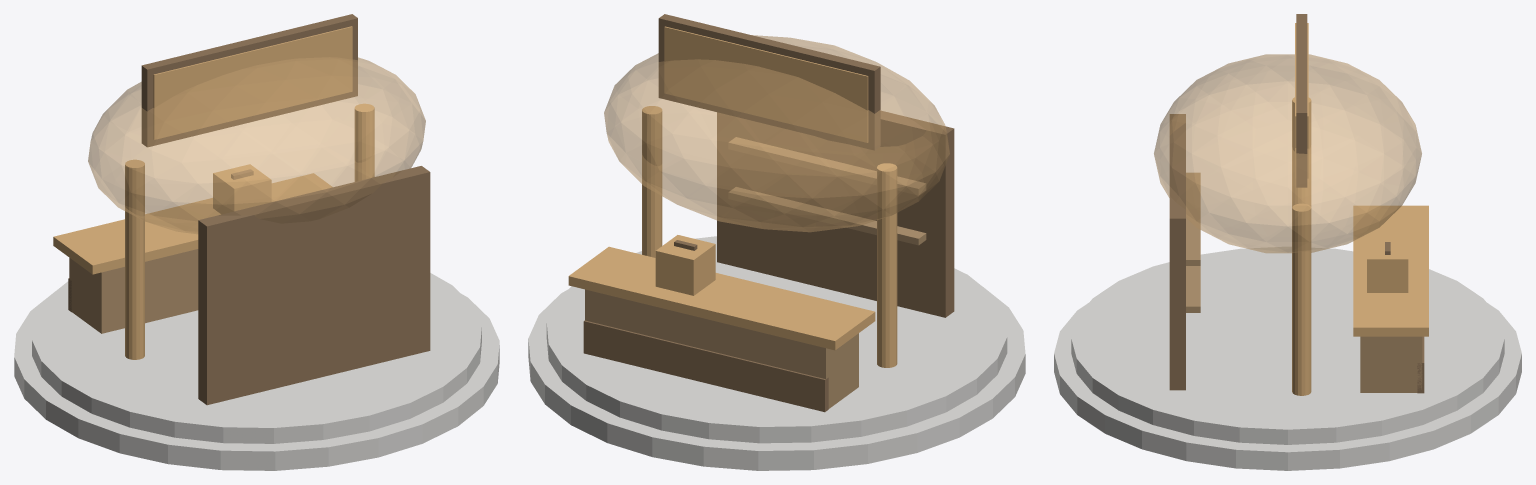
File: booth_bronze.fbx
The picture shows the model from 3 angles, left to right: view 1: azimuth 30°, elevation 25°; view 2: azimuth 150°, elevation 25°; view 3: azimuth 270°, elevation 25°; orthographic projection. The views are drawn at different scales.
Visible parts, largest first — view 1: Canopy, Back_Wall, Base_Upper, Base_Lower, Sign_Board, Counter_Top, Counter_Body, Sign_Frame, Pillar_L, DonationBox, Pillar_R; view 2: Canopy, Base_Upper, Back_Wall, Base_Lower, Sign_Board, Counter_Top, Counter_Body, Counter_Skirt, Sign_Frame, Pillar_L, Pillar_R, DonationBox (+2 smaller); view 3: Base_Upper, Canopy, Base_Lower, Counter_Top, Back_Wall, Pillar_R, Counter_Body, DonationBox, Sign_Frame, Back_Shelf2, Pillar_L, Back_Shelf (+1 smaller).
Boxes of the visible parts, x1,y1,x2,y2 form: Canopy: (88, 57, 425, 234); Back_Wall: (198, 166, 430, 405); Base_Upper: (32, 273, 481, 443); Base_Lower: (14, 293, 499, 470); Sign_Board: (153, 26, 352, 139); Counter_Top: (53, 173, 332, 274); Counter_Body: (69, 249, 198, 333); Sign_Frame: (141, 14, 357, 147); Pillar_L: (125, 159, 144, 359); DonationBox: (213, 164, 271, 214); Pillar_R: (354, 103, 374, 181); Canopy: (604, 35, 949, 232); Base_Upper: (546, 236, 1007, 443); Back_Wall: (717, 110, 954, 317); Base_Lower: (528, 287, 1025, 470); Sign_Board: (664, 26, 868, 142); Counter_Top: (568, 246, 875, 350); Counter_Body: (585, 289, 858, 408); Counter_Skirt: (583, 320, 828, 412); Sign_Frame: (658, 14, 880, 150); Pillar_L: (877, 163, 897, 367); Pillar_R: (642, 106, 662, 257); DonationBox: (655, 235, 715, 295); Base_Upper: (1071, 247, 1504, 444); Canopy: (1154, 54, 1421, 253); Base_Lower: (1054, 303, 1521, 470); Counter_Top: (1353, 205, 1428, 336); Back_Wall: (1169, 114, 1185, 390); Pillar_R: (1292, 203, 1311, 395); Counter_Body: (1360, 336, 1422, 392); DonationBox: (1367, 241, 1408, 292); Sign_Frame: (1296, 14, 1307, 187); Back_Shelf2: (1186, 173, 1200, 265); Pillar_L: (1292, 97, 1311, 206); Back_Shelf: (1186, 266, 1200, 312).
Bounding box in the file's own units: 6.8 × 4.95 × 6.8.
